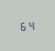four: (27, 20, 34, 30)
six: (19, 20, 26, 31)
